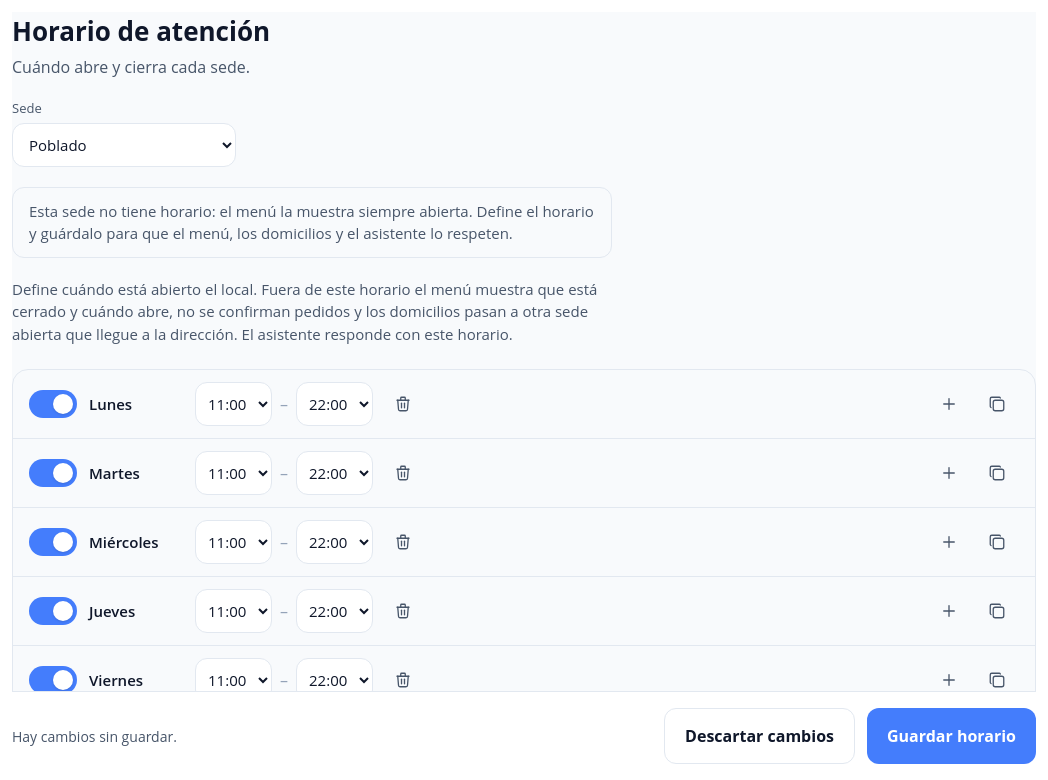
Scenario: propone un horario para la sede sin horario y lo guarda tal cual
Expected: the text "no tiene horario: el menú la muestra siempre abierta" is shown, [29,200,594,243]
Step 1. Click the switch named "Abrir el Lunes" → (53, 404), box [29,390,77,418]
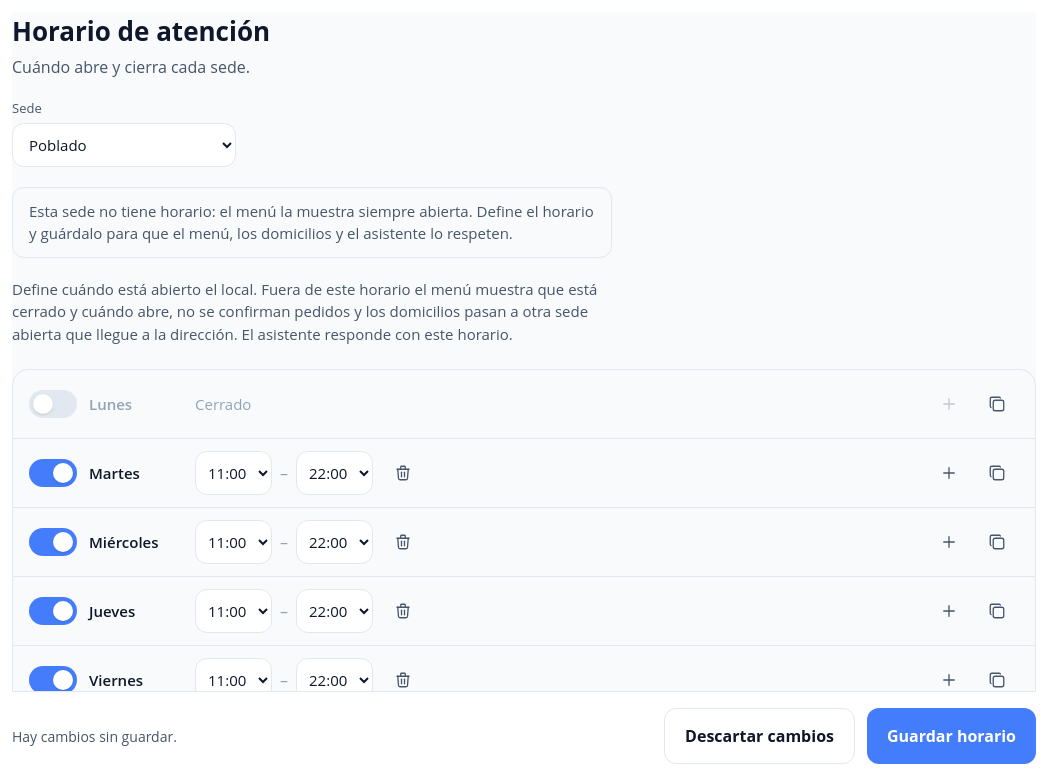
Step 2. Click the button "Guardar horario" → (952, 736), box [867,708,1036,764]
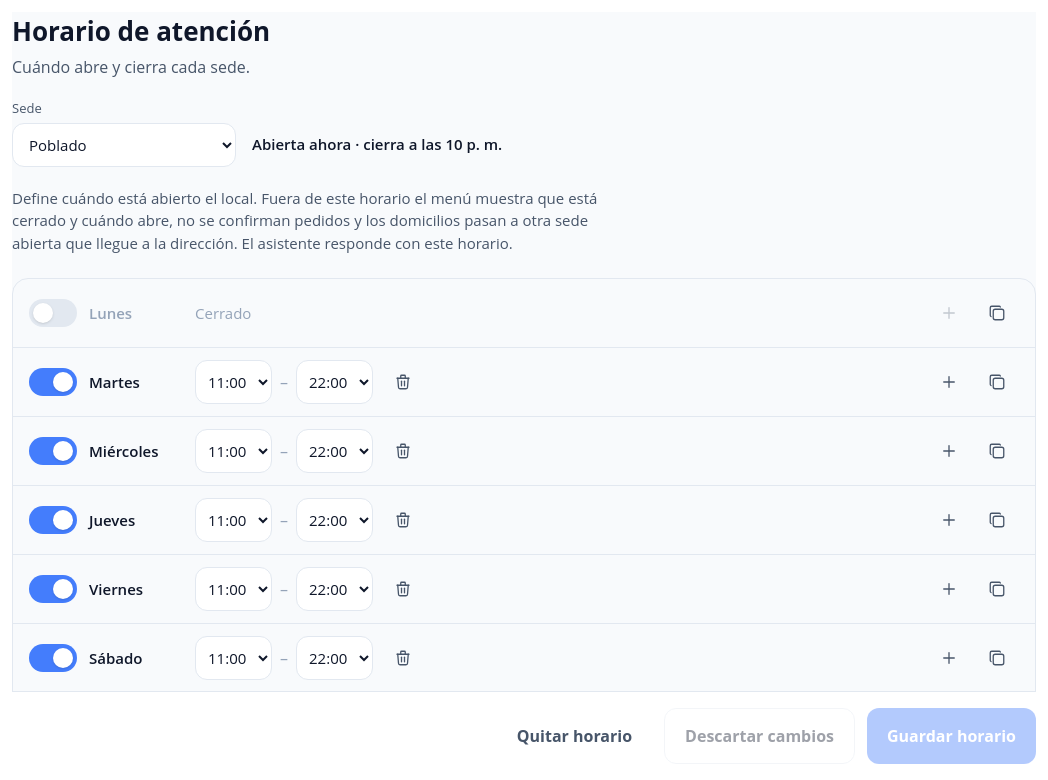
Expected: the text "Abierta ahora · cierra a las 10 p. m." is shown, [252,134,502,154]
